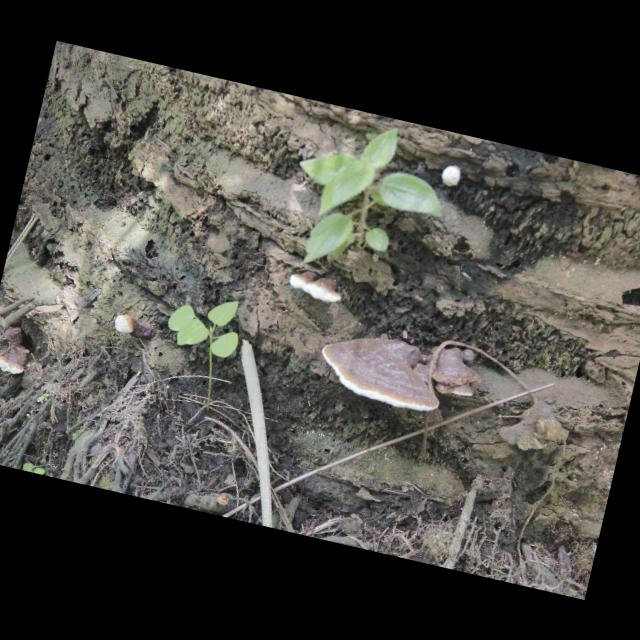ganoderma: (314, 325, 453, 418), (421, 342, 489, 404), (287, 267, 347, 308), (1, 322, 35, 377)
primordium: (113, 314, 139, 338), (441, 164, 464, 190)
